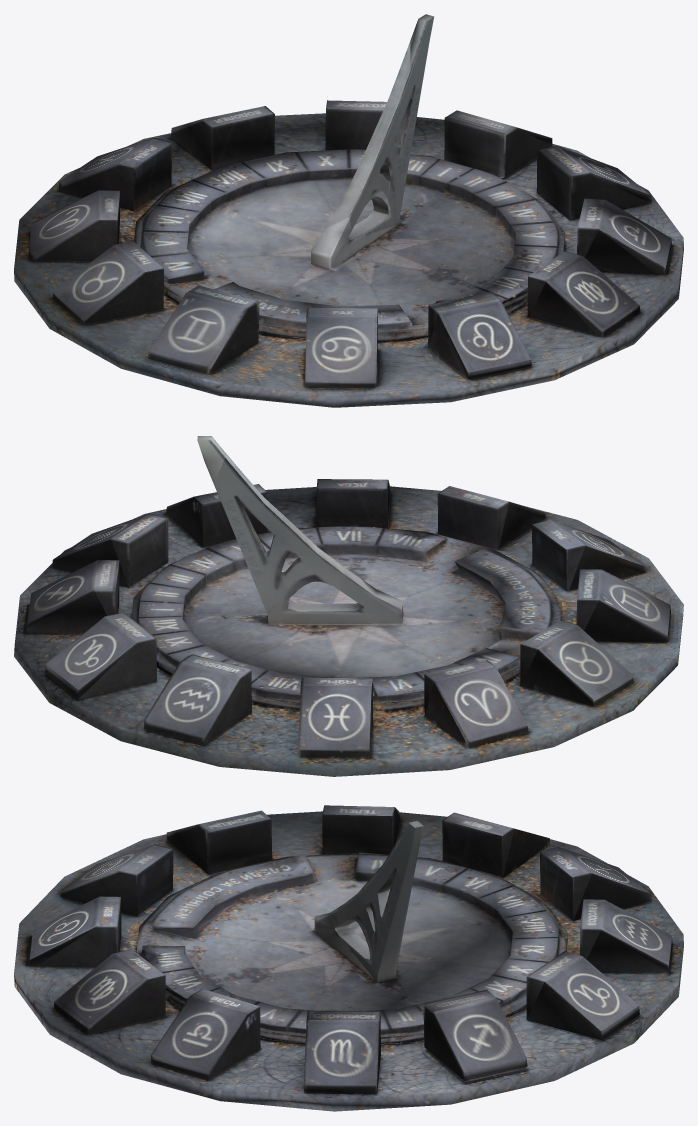
File: sundial.glb
The picture shows the model from 3 angles, top to bottom: view 1: azimuth 30°, elevation 25°; view 2: azimuth 150°, elevation 25°; view 3: azimuth 270°, elevation 25°; orthographic projection.
Parts seen in each view (by area): view 1: Geode; view 2: Geode; view 3: Geode.
Boxes of the visible parts, x1,y1,x2,y2 form: Geode: (14,14,683,407); Geode: (14,436,683,776); Geode: (14,805,683,1111).
Size of the model in its own units: 2.35 by 0.7647 by 2.33.
1 material, 1 textured.
